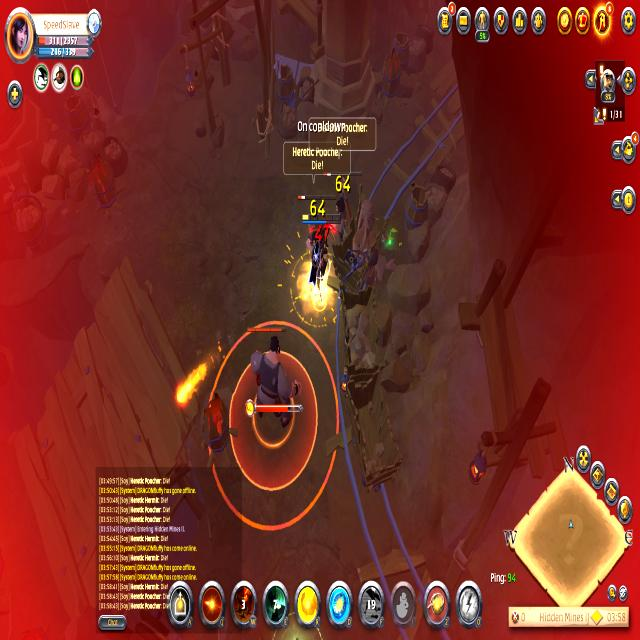ore: (245, 322, 301, 452), (323, 165, 365, 239), (296, 190, 338, 262)
red: (300, 214, 337, 302)
silver: (208, 323, 342, 532)
